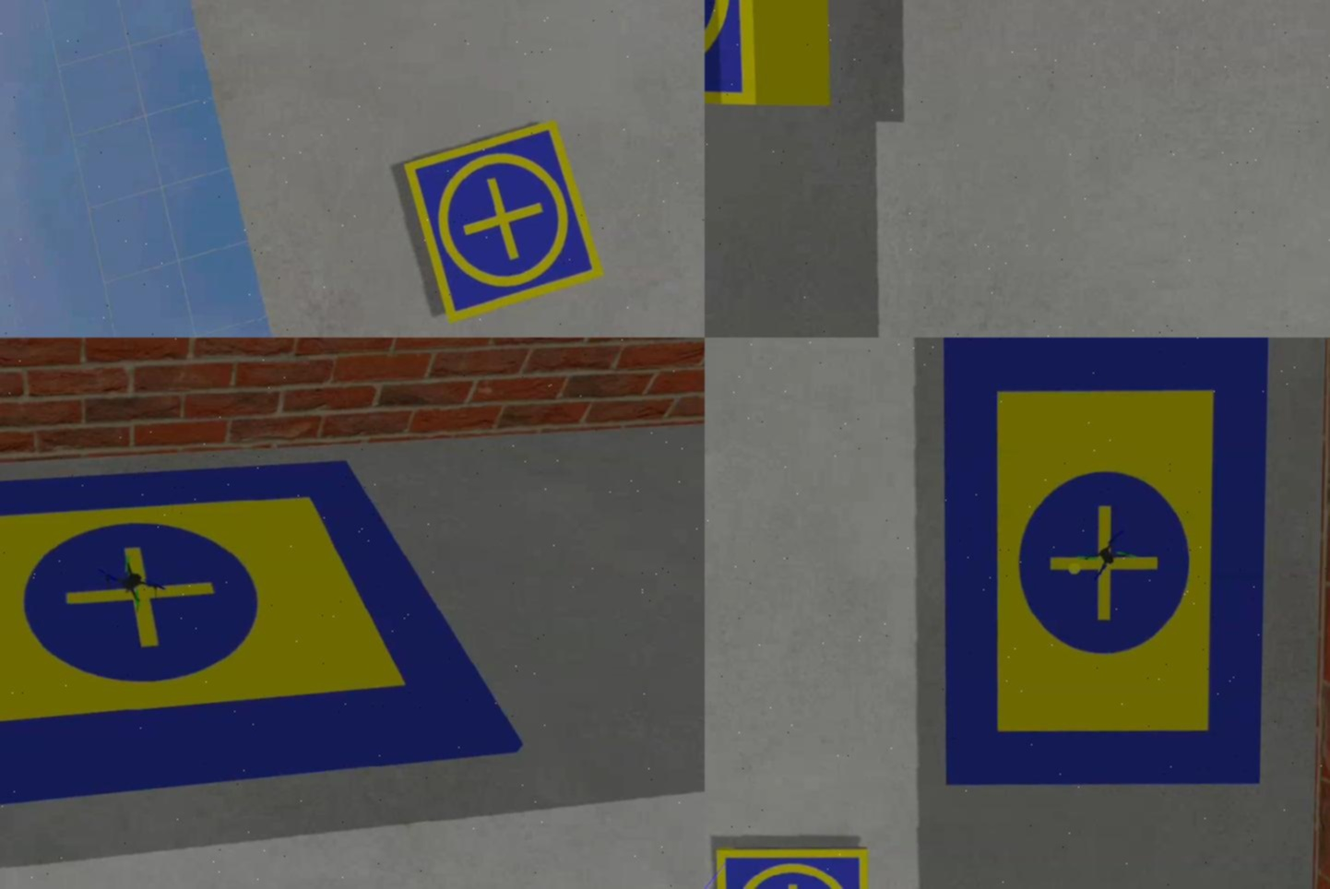large_base: (1, 449, 535, 831), (935, 338, 1266, 790)
small_base: (398, 114, 607, 325), (712, 846, 873, 889)
